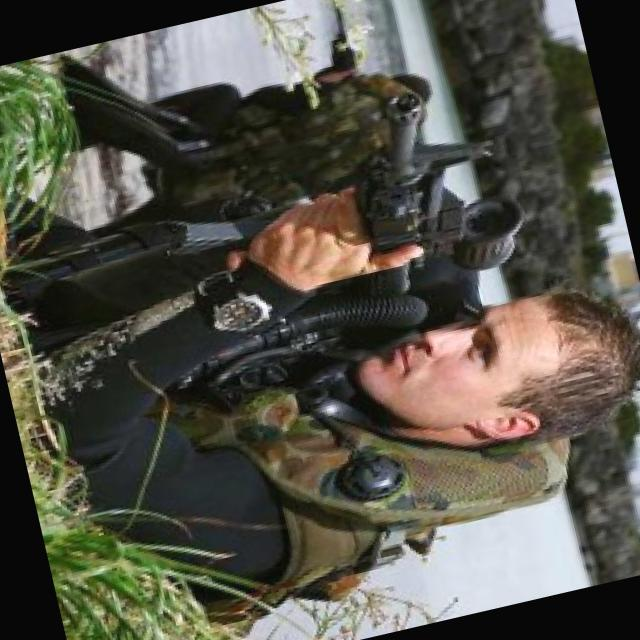long weapon: (263, 75, 537, 357)
